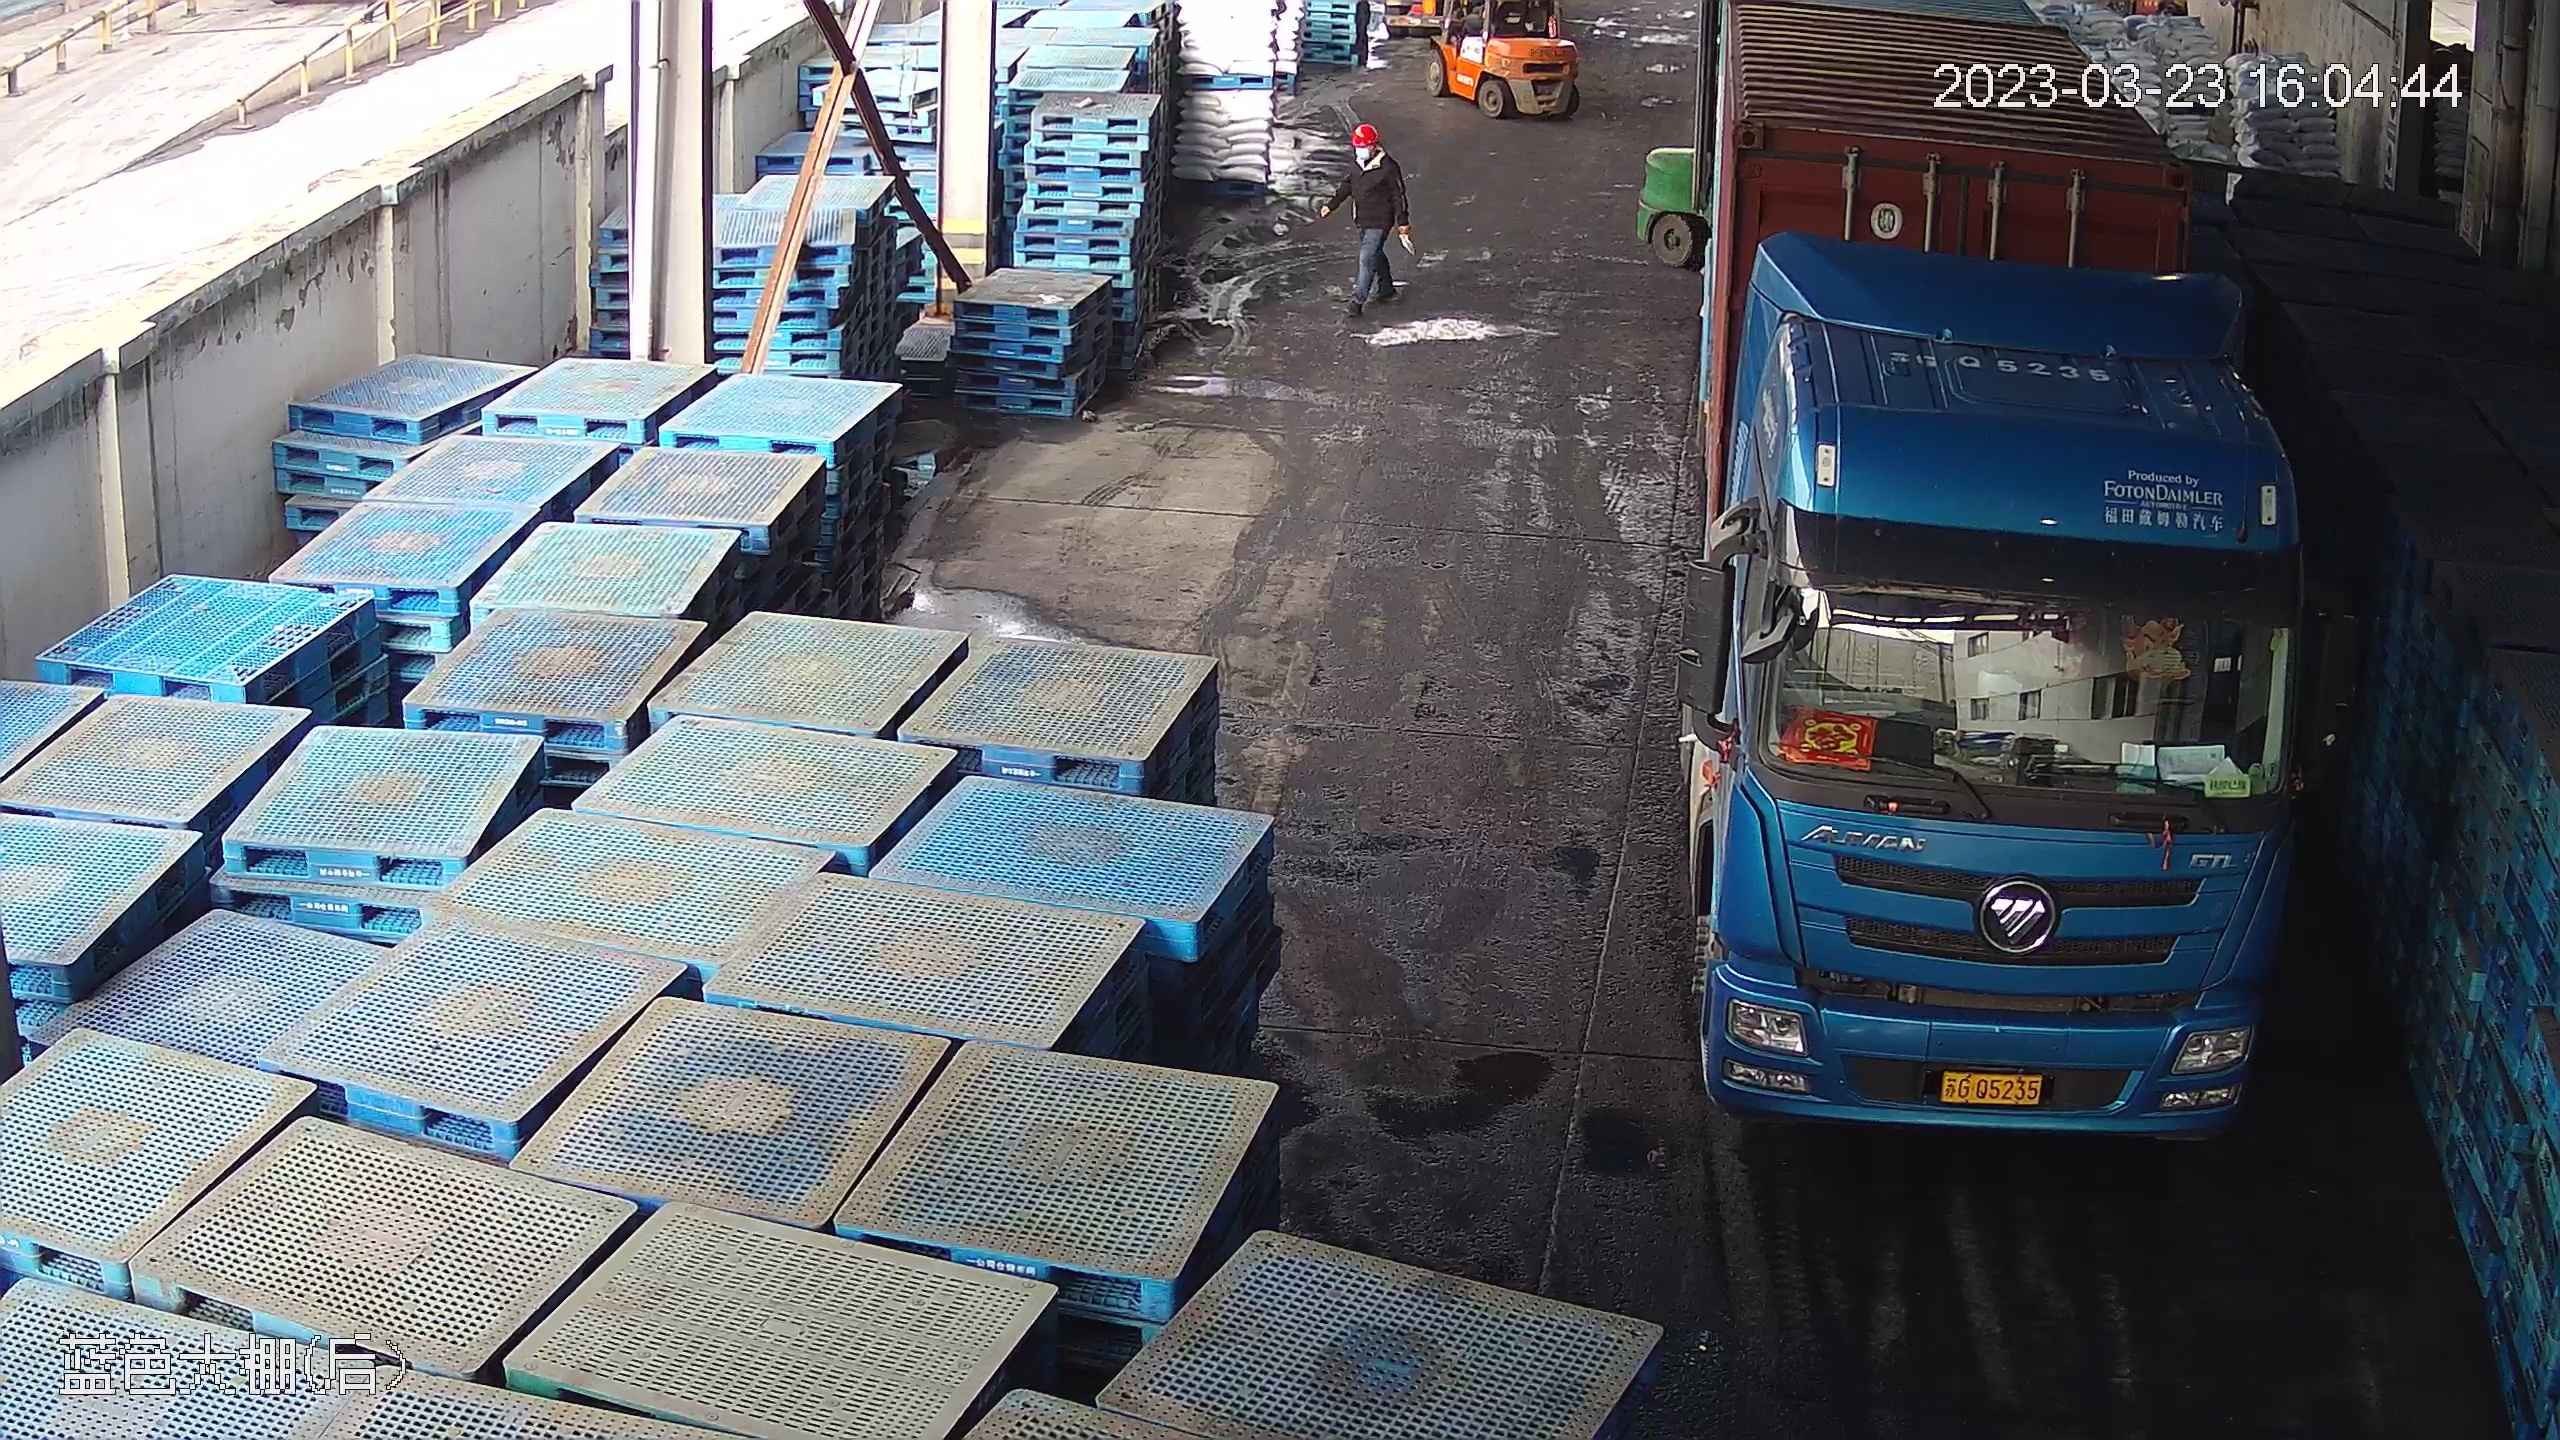head: (1342, 120, 1404, 186)
helmet: (1352, 120, 1385, 146)
people: (1332, 118, 1411, 323)
truck: (1661, 29, 2377, 1145)
